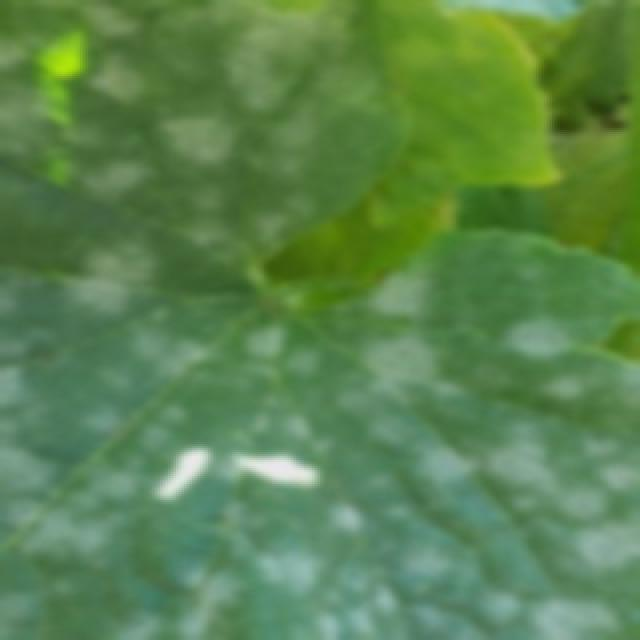Powdery_mildew_on_lettuce: (2, 0, 640, 640), (104, 366, 640, 610), (45, 20, 425, 302)
